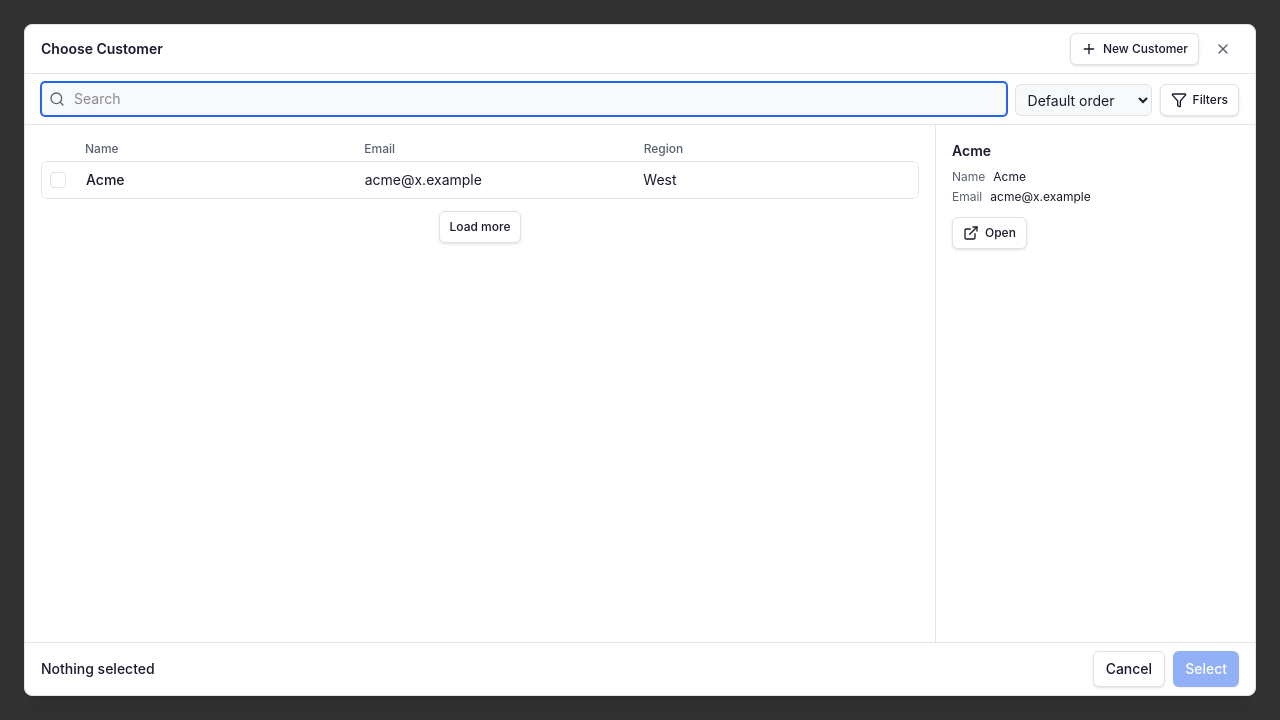
Test case: RelatedRecordPickerDialog › loads more and reports a failed load with a retry
The width and height of the screenshot is (1280, 720).
Click the button "Load more" at (480, 227), box [438,211,522,243]
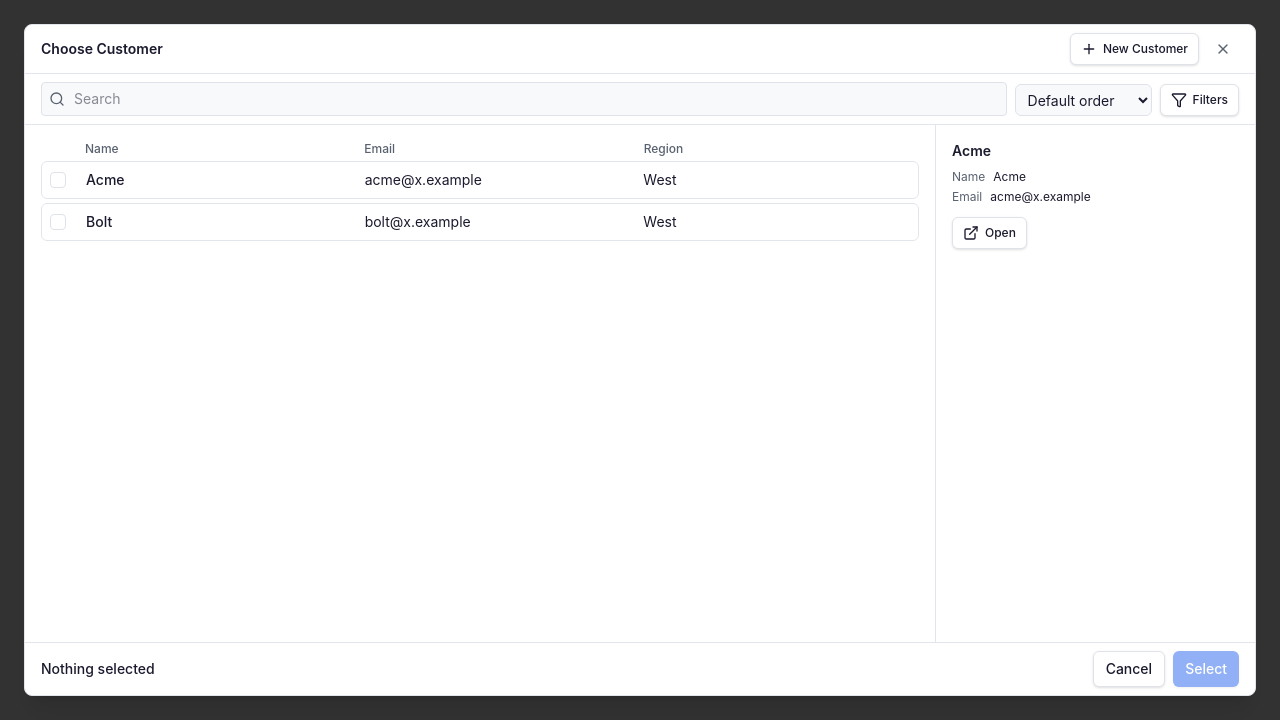
Expected: the number of options is 2, [41,161,919,199]; [41,203,919,241]
Type "x" into the search field at (524, 99), box [41,82,1007,116]
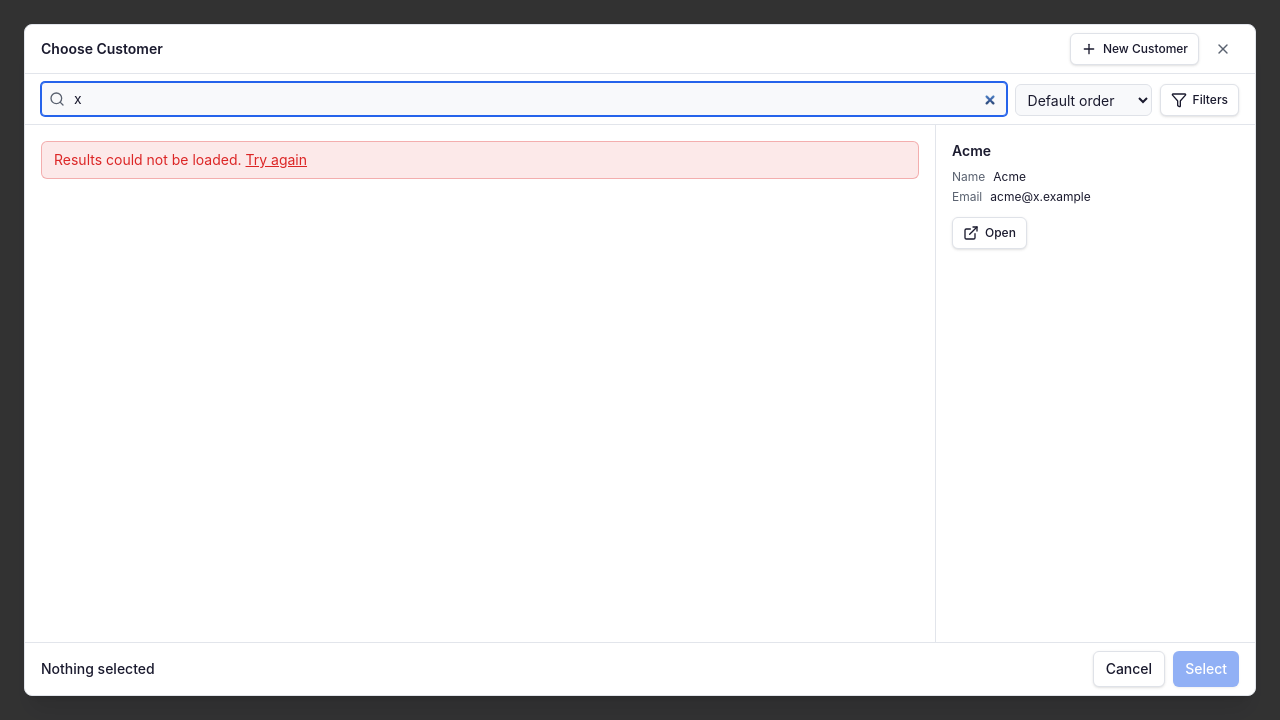
Expected: the text "Results could not be loaded. Try again" is shown, [41,141,919,179]
